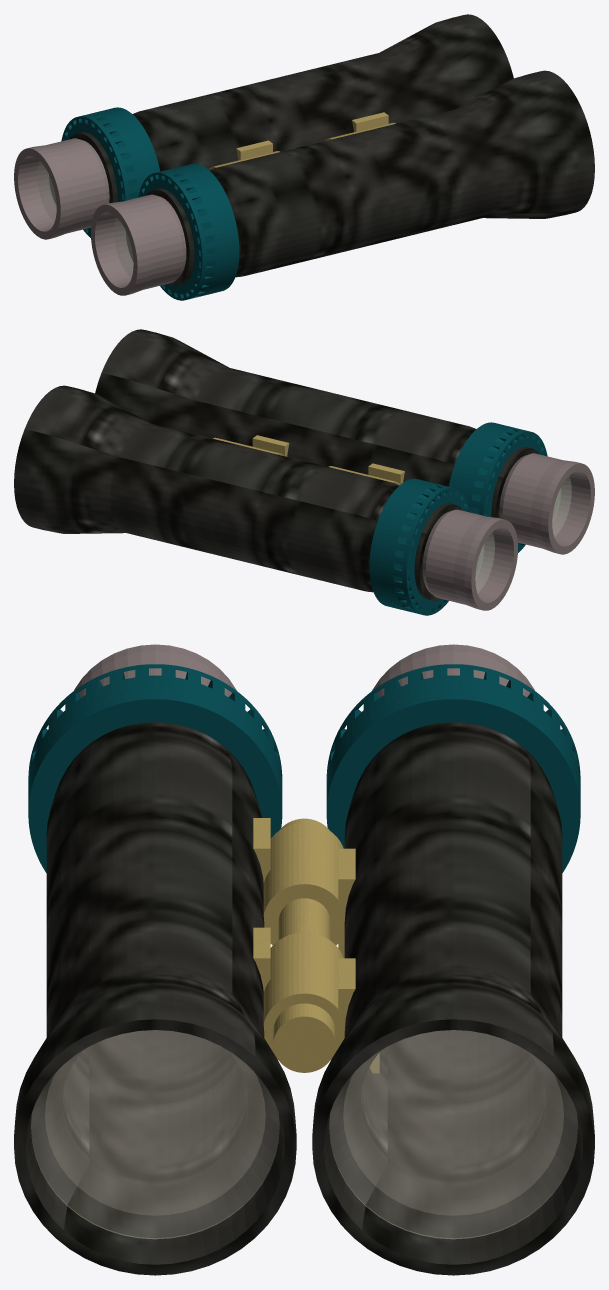
File: Others_Binocular__0009.glb
3 views of the same model, one above another, from view 1: azimuth 30°, elevation 25°; view 2: azimuth 150°, elevation 25°; view 3: azimuth 270°, elevation 25° (orthographic). The views are drawn at different scales.
Visible parts, largest first — view 1: right_barrel::barrel_body, left_barrel::barrel_body, right_barrel::eyecup, left_barrel::eyecup, focus_ring_1::focus_ring_knurl, focus_ring_0::focus_ring_knurl, left_barrel::ocular_lens, right_barrel::ocular_lens, left_barrel::front_hinge_arm, left_barrel::rear_hinge_arm; view 2: left_barrel::barrel_body, right_barrel::barrel_body, left_barrel::eyecup, right_barrel::eyecup, focus_ring_0::focus_ring_knurl, focus_ring_1::focus_ring_knurl, right_barrel::ocular_lens, left_barrel::ocular_lens, right_barrel::front_hinge_arm, right_barrel::rear_hinge_arm; view 3: right_barrel::barrel_body, left_barrel::barrel_body, left_barrel::objective_lens, right_barrel::objective_lens, focus_ring_0::focus_ring_knurl, focus_ring_1::focus_ring_knurl, left_barrel::rear_hinge_sleeve, left_barrel::front_hinge_sleeve, hinge_bridge::front_hinge_cap, left_barrel::eyecup, right_barrel::eyecup, right_barrel::rear_hinge_sleeve (+6 smaller).
Boxes of the visible parts, x1,y1,x2,y2 form: right_barrel::barrel_body: (146,70,594,285); left_barrel::barrel_body: (69,14,513,203); right_barrel::eyecup: (91,194,186,295); left_barrel::eyecup: (14,138,109,239); focus_ring_1::focus_ring_knurl: (138,163,239,300); focus_ring_0::focus_ring_knurl: (61,107,159,237); left_barrel::ocular_lens: (37,161,56,221); right_barrel::ocular_lens: (114,218,133,277); left_barrel::front_hinge_arm: (352,112,388,131); left_barrel::rear_hinge_arm: (236,140,272,160); left_barrel::barrel_body: (14,385,462,600); right_barrel::barrel_body: (95,329,539,518); left_barrel::eyecup: (422,509,517,610); right_barrel::eyecup: (499,453,594,554); focus_ring_0::focus_ring_knurl: (369,478,470,615); focus_ring_1::focus_ring_knurl: (449,422,547,552); right_barrel::ocular_lens: (552,476,571,536); left_barrel::ocular_lens: (475,533,494,592); right_barrel::front_hinge_arm: (252,435,289,456); right_barrel::rear_hinge_arm: (368,463,404,484); right_barrel::barrel_body: (14,722,296,1275); left_barrel::barrel_body: (312,722,594,1275); left_barrel::objective_lens: (329,1030,577,1238); right_barrel::objective_lens: (31,1030,279,1238); focus_ring_0::focus_ring_knurl: (326,664,580,872); focus_ring_1::focus_ring_knurl: (28,664,282,872); left_barrel::rear_hinge_sleeve: (263,853,344,945); left_barrel::front_hinge_sleeve: (263,963,344,1059); hinge_bridge::front_hinge_cap: (273,1003,335,1072); left_barrel::eyecup: (372,644,534,697); right_barrel::eyecup: (74,644,236,697); right_barrel::rear_hinge_sleeve: (270,823,343,868).
Size of the model in its own units: 0.1921 by 0.0546 by 0.1121.
6 materials, 2 textured.
